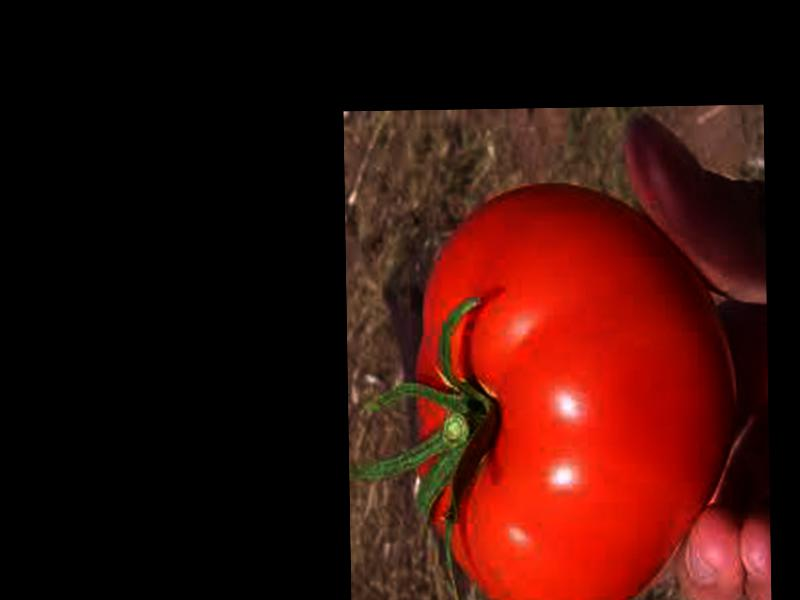Tomato: (412, 180, 736, 600)
